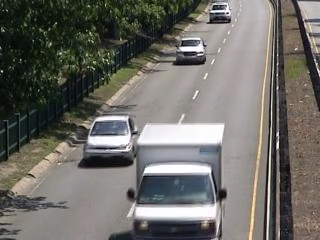car: (82, 114, 140, 166), (173, 35, 207, 69), (207, 2, 233, 25)
truck: (133, 121, 228, 240)
